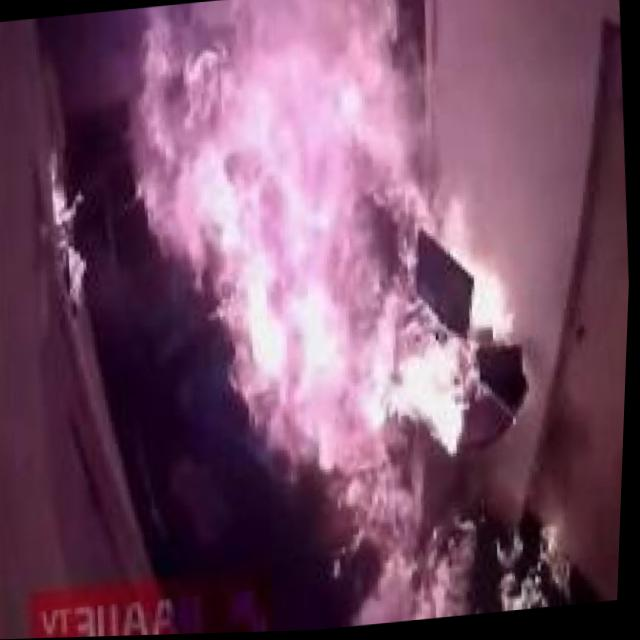fire: (102, 0, 599, 637), (42, 162, 98, 320)
